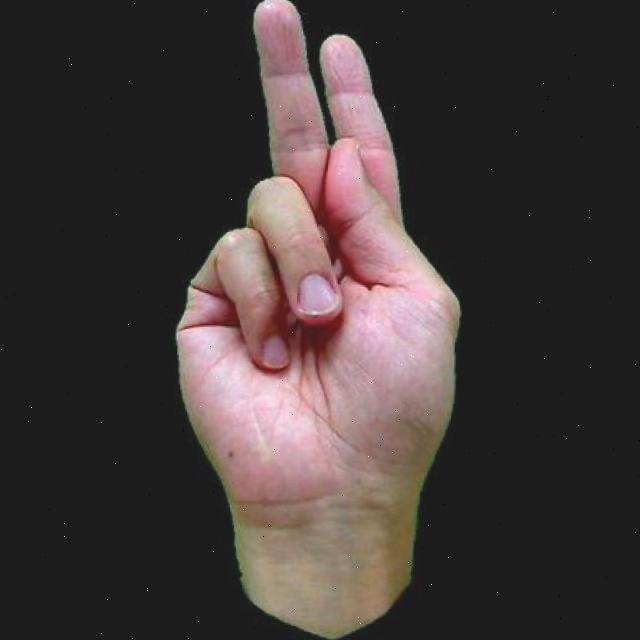k: (134, 0, 487, 640)
